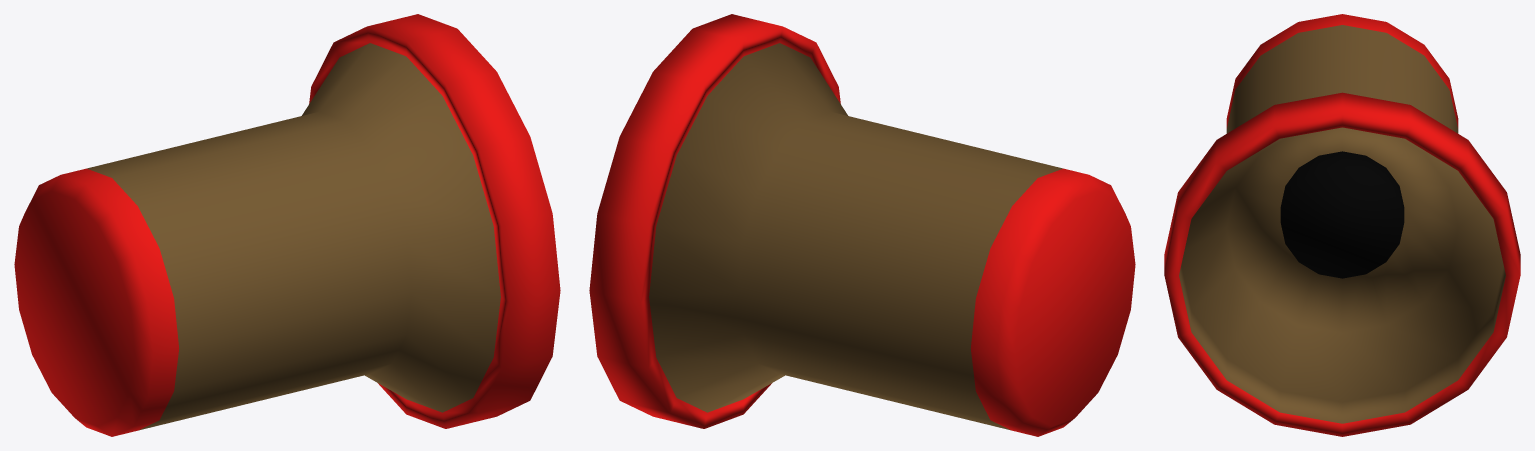
File: Ablenkspule.fbx
3 views of the same model, side by side, from view 1: azimuth 30°, elevation 25°; view 2: azimuth 150°, elevation 25°; view 3: azimuth 270°, elevation 25° (orthographic). The views are drawn at different scales.
Visible parts, largest first — view 1: Circle; view 2: Circle; view 3: Circle.
Boxes of the visible parts, box(x1,y1,x2,y2) form: Circle: box(14, 14, 560, 436); Circle: box(589, 14, 1135, 436); Circle: box(1164, 14, 1520, 436).
Size of the model in its own units: 239 by 223 by 223.
